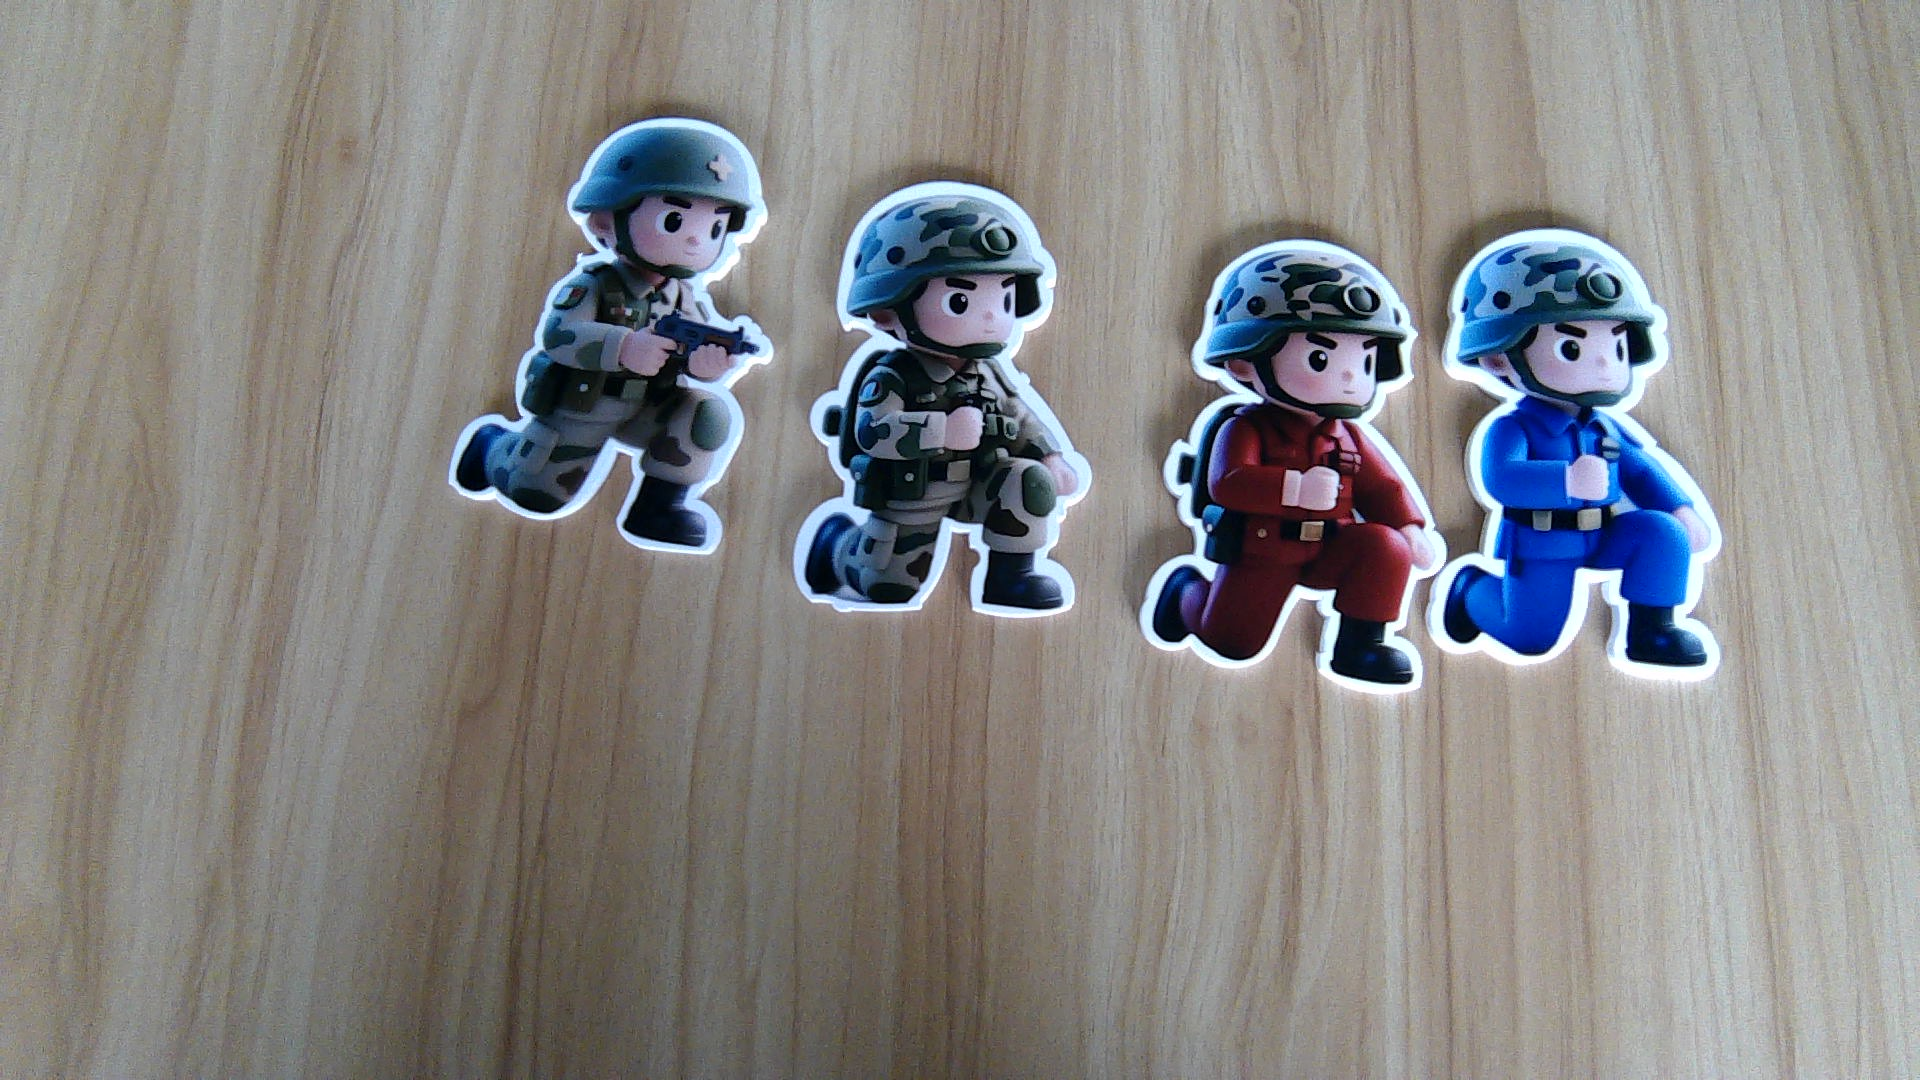友军: (436, 270, 773, 560), (791, 353, 1095, 624)
敌人1: (1133, 411, 1445, 694)
敌人2: (1427, 405, 1727, 694)
